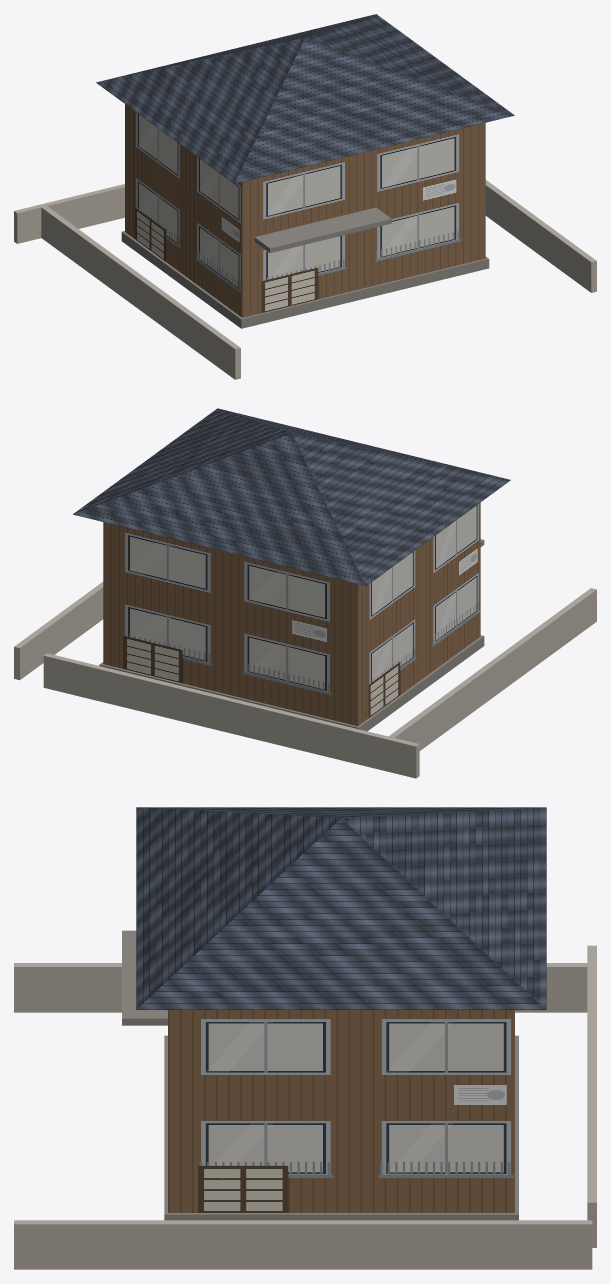
File: house_c.glb
3 views of the same model, one above another, from view 1: azimuth 30°, elevation 25°; view 2: azimuth 150°, elevation 25°; view 3: azimuth 270°, elevation 25° (orthographic). The views are drawn at different scales.
Visible parts, largest first — view 1: jhouse; view 2: jhouse; view 3: jhouse.
Part boxes in pixels (bbox=[...]): jhouse: bbox=[14, 14, 596, 379]; jhouse: bbox=[14, 408, 596, 778]; jhouse: bbox=[14, 807, 596, 1269].
Bounding box in the file's own units: 17.12 × 9.2 × 15.13.
4 materials, 2 textured.
